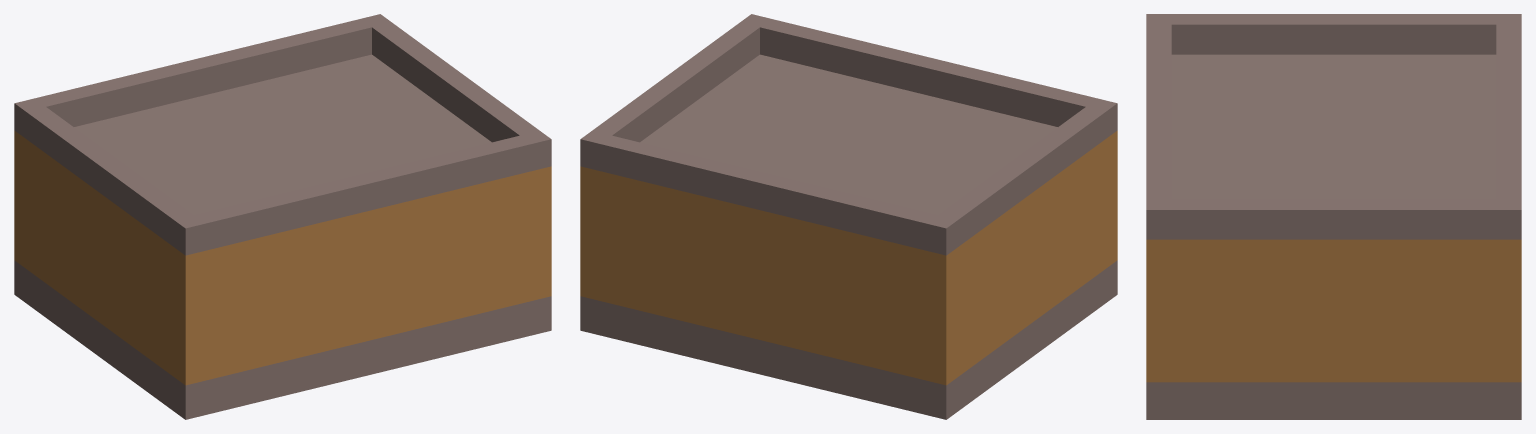
File: Map-Shop-Lv1.fbx
3 views of the same model, side by side, from view 1: azimuth 30°, elevation 25°; view 2: azimuth 150°, elevation 25°; view 3: azimuth 270°, elevation 25° (orthographic). The views are drawn at different scales.
Visible parts, largest first — view 1: Map-Shop-Lv1; view 2: Map-Shop-Lv1; view 3: Map-Shop-Lv1.
Boxes of the visible parts, <box> form: Map-Shop-Lv1: <box>14,14,551,419</box>; Map-Shop-Lv1: <box>580,14,1117,419</box>; Map-Shop-Lv1: <box>1146,14,1521,419</box>.
Bounding box in the file's own units: 2 × 1 × 1.62.
